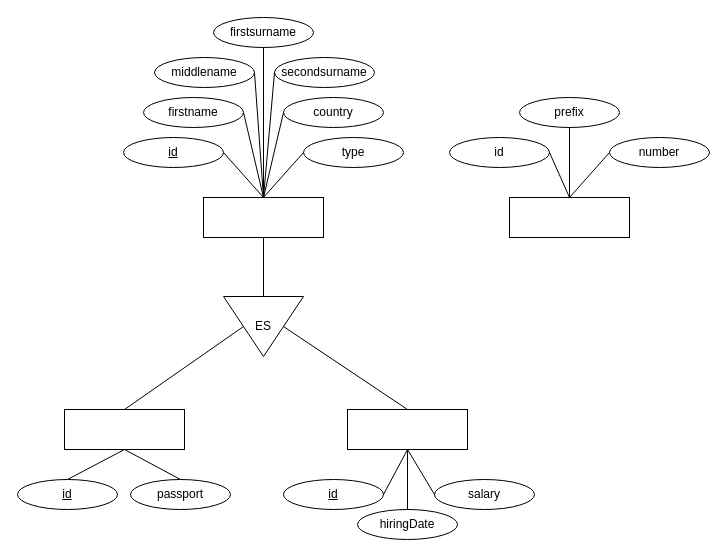
This 727x557 diagram has some shape labels left out. The shapes that lost their labels are listed below. From the top down, each one's centre as x and y in pixels, then its label:
(263,217): User
(569,217): Phonenumber
(124,429): Client
(407,429): Employee
